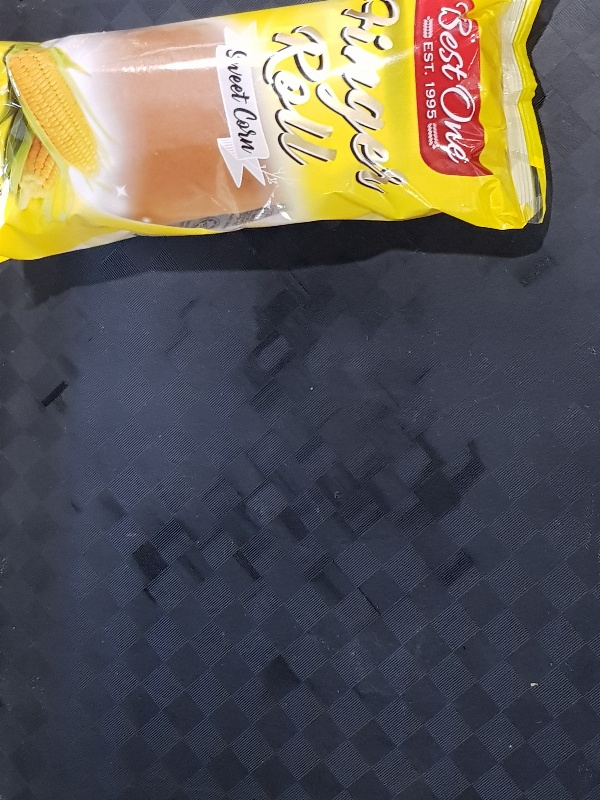Tinges Roll Sweet Corn: (2, 1, 549, 263)
